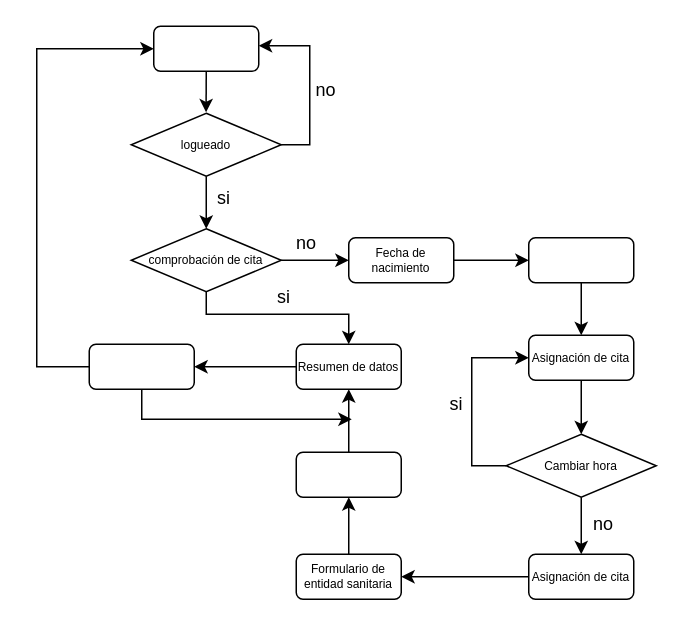
This 683x626 diagram has some shape labels left out. The shapes that lost their labels are listed below. From the top down, each one's box as (x1, y1, x2, y2) in pixels, then its label:
(152, 25, 259, 71): Login
(527, 236, 634, 283): Selección de Centro Médico
(88, 343, 194, 389): Cancelar cita
(295, 451, 401, 497): Formulario de patologías
